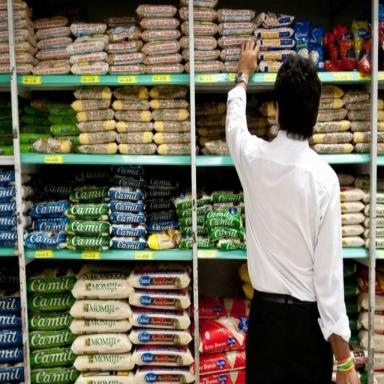beans package: (227, 30, 296, 62), (314, 99, 370, 133), (254, 13, 293, 28), (136, 5, 177, 19), (67, 40, 105, 55), (140, 18, 179, 31), (109, 26, 140, 42), (142, 41, 180, 54), (151, 109, 189, 122), (71, 23, 106, 37), (105, 40, 142, 53), (79, 131, 116, 144), (217, 9, 254, 22), (150, 86, 187, 99), (77, 109, 114, 122), (218, 22, 254, 35), (143, 53, 182, 65), (142, 30, 181, 42), (218, 35, 254, 48), (77, 120, 115, 132), (107, 53, 145, 65), (71, 62, 109, 74), (37, 36, 72, 49), (114, 87, 149, 100), (70, 52, 107, 64), (71, 100, 110, 111), (34, 17, 68, 29), (36, 48, 70, 60), (36, 27, 70, 39), (258, 39, 295, 50), (116, 122, 153, 133), (153, 133, 190, 144), (117, 132, 153, 143), (115, 111, 151, 122), (154, 121, 190, 132), (255, 28, 293, 38), (112, 100, 150, 110), (150, 99, 188, 109), (311, 144, 353, 153), (343, 90, 369, 104), (157, 144, 190, 155), (146, 64, 184, 73), (194, 21, 218, 35), (195, 61, 222, 73), (109, 65, 145, 74), (195, 36, 217, 50), (321, 85, 344, 98), (194, 8, 216, 21), (195, 50, 220, 60), (319, 99, 343, 109), (193, 0, 218, 8)
